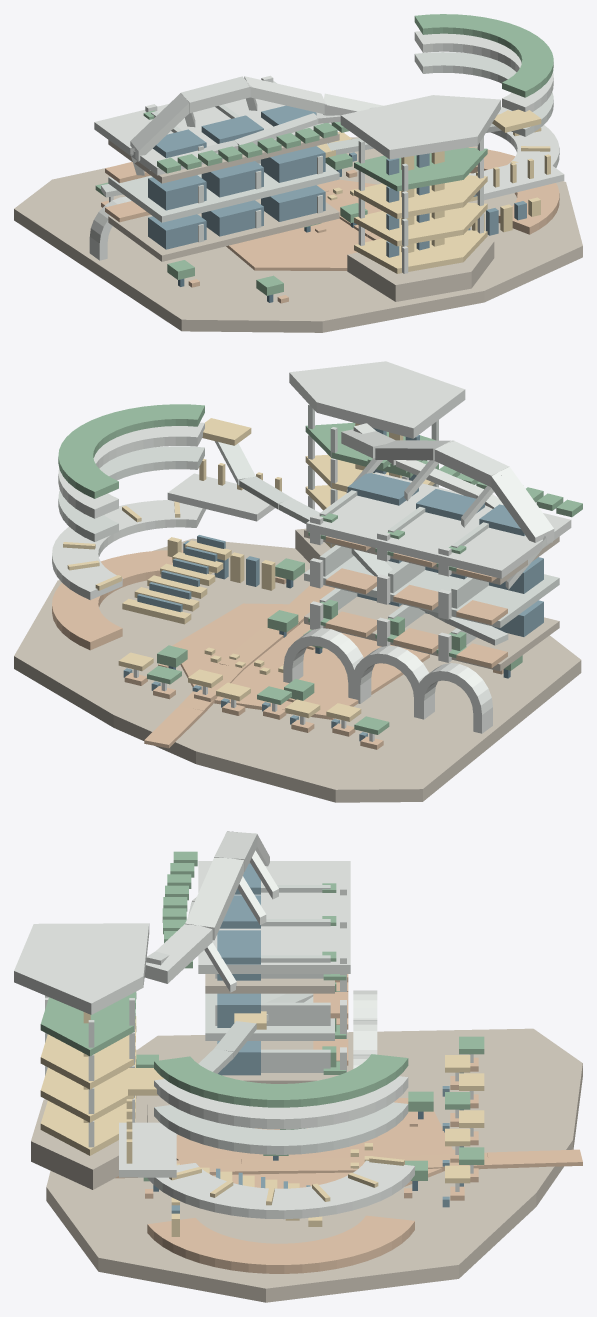
File: a40_section.glb
The picture shows the model from 3 angles, top to bottom: view 1: azimuth 30°, elevation 25°; view 2: azimuth 150°, elevation 25°; view 3: azimuth 270°, elevation 25°; orthographic projection. The views are drawn at different scales.
Size of the model in its own units: 437 by 194 by 404.
